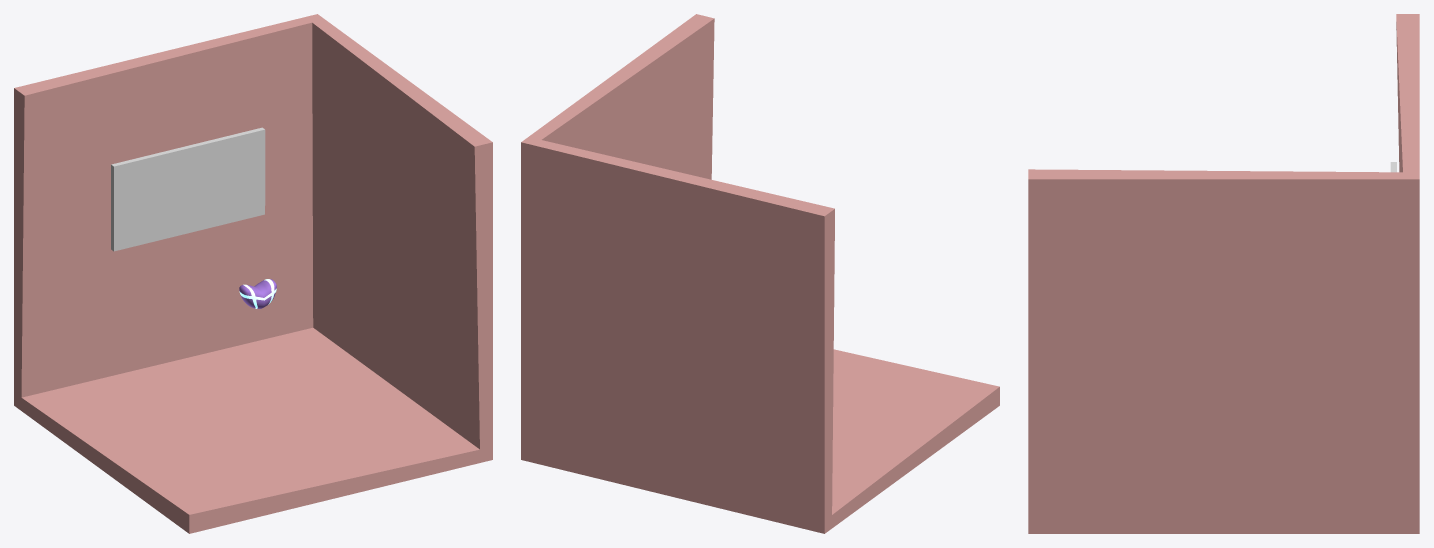
The model's file is heart.glb.
3 renders of one model, left to right at view 1: azimuth 30°, elevation 25°; view 2: azimuth 150°, elevation 25°; view 3: azimuth 270°, elevation 25°, orthographic. The views are drawn at different scales.
Parts seen in each view (by area): view 1: Cube, VideoGlass, heart; view 2: Cube; view 3: Cube.
Part boxes in pixels (x1=…): Cube: x1=14, y1=14, x2=492, y2=533; VideoGlass: x1=111, y1=127, x2=265, y2=251; heart: x1=239, y1=279, x2=276, y2=308; Cube: x1=521, y1=14, x2=999, y2=533; Cube: x1=1028, y1=14, x2=1419, y2=533.
Size of the model in its own units: 4 by 4 by 4.
